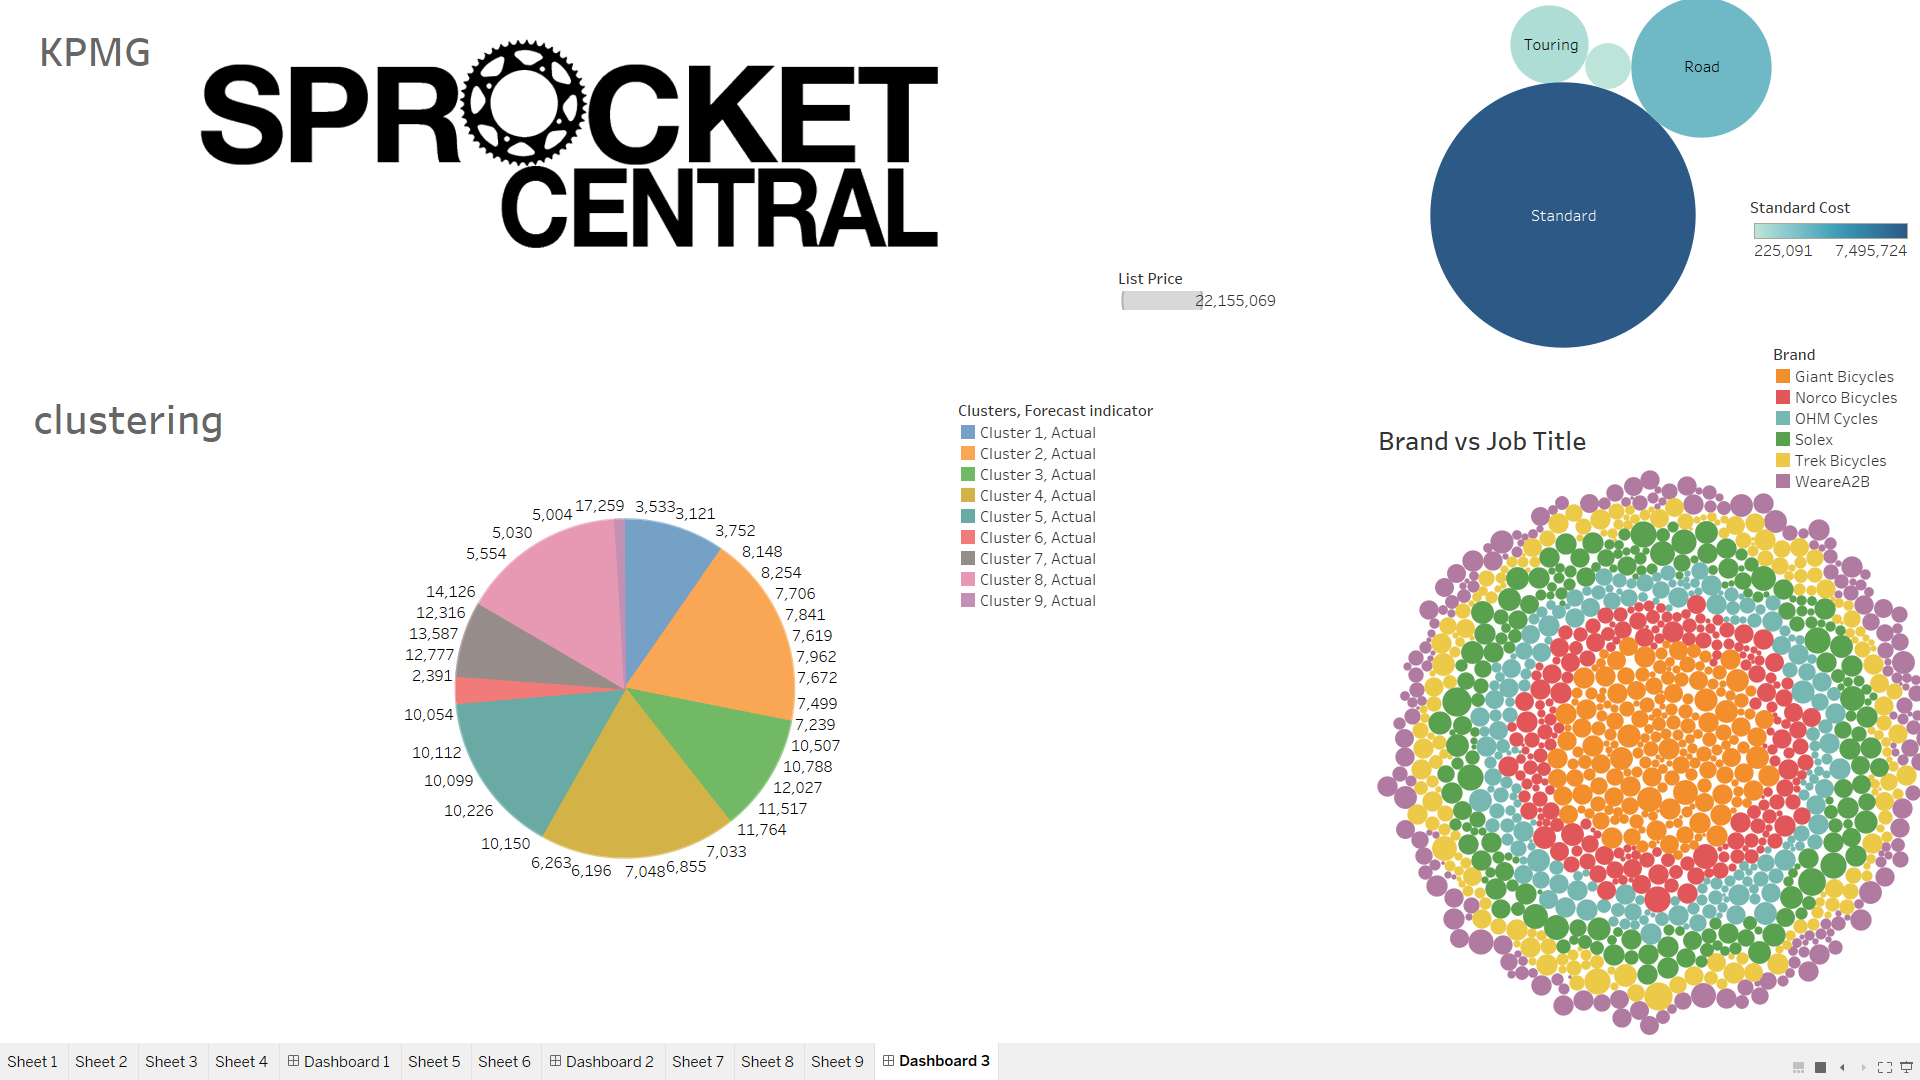

This screenshot's page, from the dashboard's own definition file:
{"tool":"tableau","page":{"name":"Dashboard 3","canvas":[1000,1000],"units":"permille","ordinal":2},"visuals":[{"type":"text","box":[18.1,16,73,63]},{"type":"image","param":"Image/sprocket_central_logo.png","box":[103.2,37.8,397.1,258.9]},{"type":"legend","title":"Sheet 7","param":"[federated.10zzsdp0hoaa021cgm0eb0f26sjg].[sum:standard_cost:qk]","box":[911.3,189.2,84.5,121]},{"type":"legend","title":"Sheet 7","param":"[federated.10zzsdp0hoaa021cgm0eb0f26sjg].[sum:Number of Records:qk]","box":[580,191.3,84.5,49.3]},{"type":"legend","title":"Sheet 9","param":"[federated.10zzsdp0hoaa021cgm0eb0f26sjg].[fVal:sum:list_price:qk]","box":[582.4,256.6,84.5,49.3]},{"type":"worksheet","title":"Sheet 9","mark":"Pie","box":[1.8,333.3,648.2,652.9]},{"type":"text","box":[15.7,348.2,150.3,104.2]},{"type":"legend","title":"Sheet 9","param":"[federated.10zzsdp0hoaa021cgm0eb0f26sjg].[none:AdhocCluster:1:ok]\n[federated.10z","box":[499.1,383.7,112.2,276.1]}]}

Visuals, with their boxes on the dashboard's canvas, which has no fixed pixel size, in thousandths of its width and height (x1, y1, x2, y2). These are canvas units, not pixel positions in the 1920x1080 screenshot, which may show the page scaled, cropped or inside an application window:
text: crop(18, 16, 91, 79)
image: crop(103, 38, 500, 297)
"Sheet 7" legend: crop(911, 189, 996, 310)
"Sheet 7" legend: crop(580, 191, 664, 241)
"Sheet 9" legend: crop(582, 257, 667, 306)
"Sheet 9" worksheet (Pie marks): crop(2, 333, 650, 986)
text: crop(16, 348, 166, 452)
"Sheet 9" legend: crop(499, 384, 611, 660)
